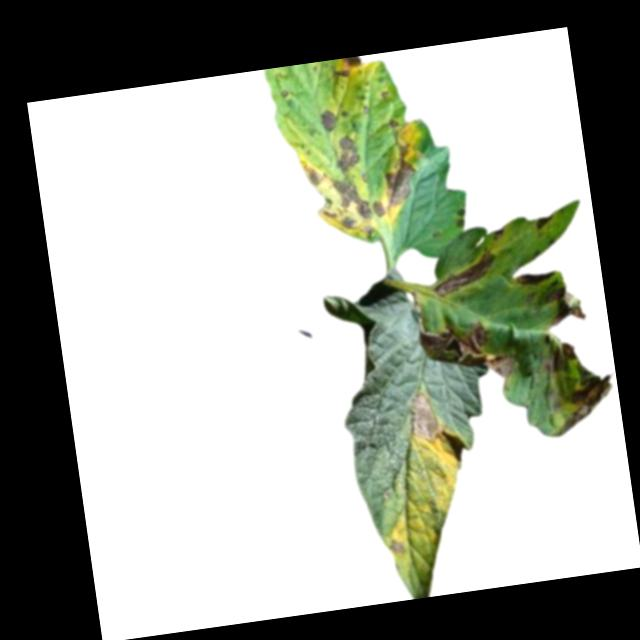Early_blight: (297, 131, 388, 245), (423, 313, 519, 389), (557, 371, 618, 431), (429, 250, 502, 299), (378, 140, 423, 208), (403, 388, 442, 444), (543, 282, 586, 328), (537, 338, 583, 379), (515, 264, 561, 288), (329, 55, 370, 80), (317, 107, 339, 133), (388, 533, 407, 556), (534, 210, 555, 229), (452, 204, 467, 227), (490, 225, 502, 241), (387, 117, 401, 128)
